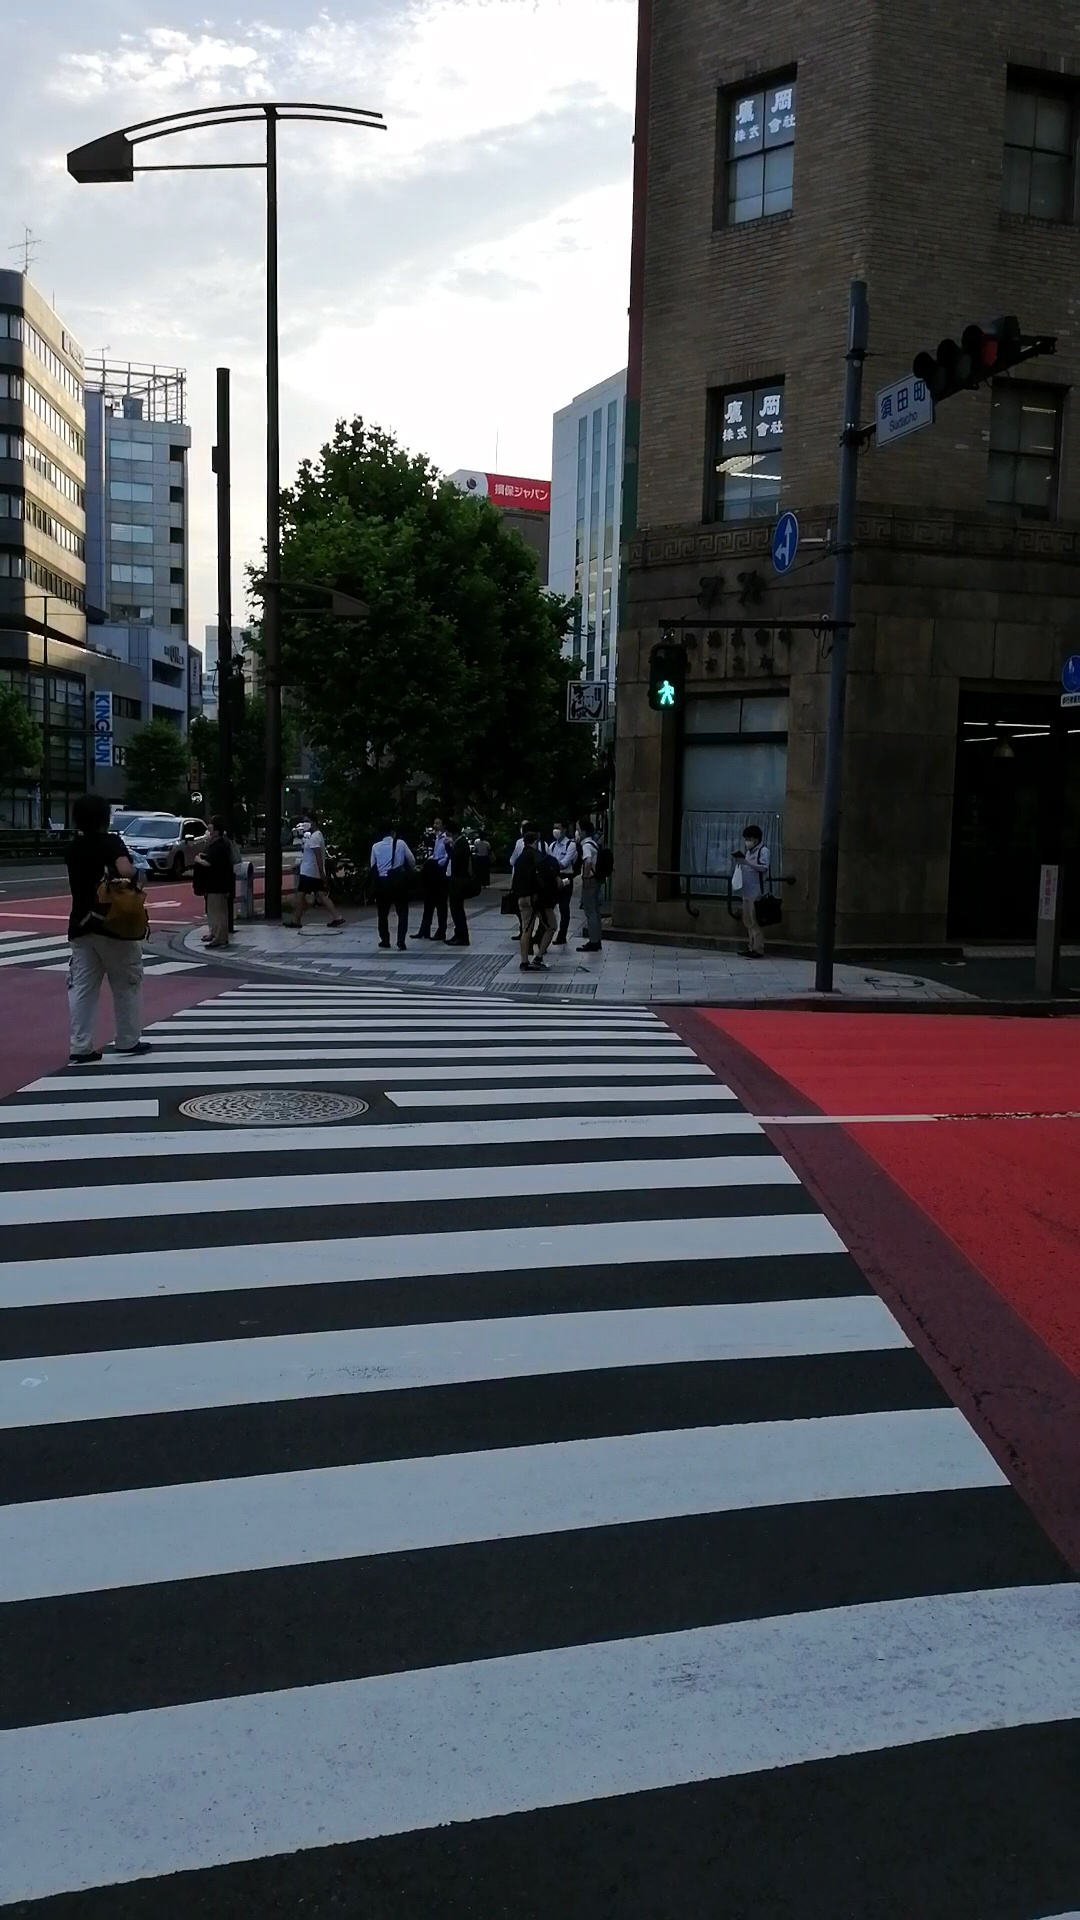green: (650, 644, 686, 713)
